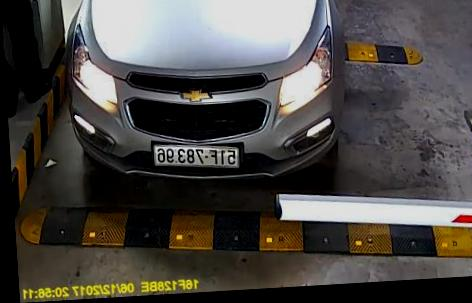License_Plate: (148, 137, 248, 174)
